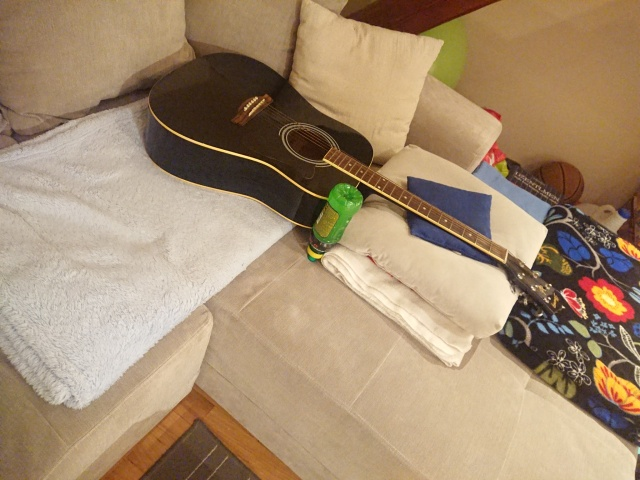Vindi Iso Sport Lemon-Grapefruit 500mL: (304, 181, 365, 264)
